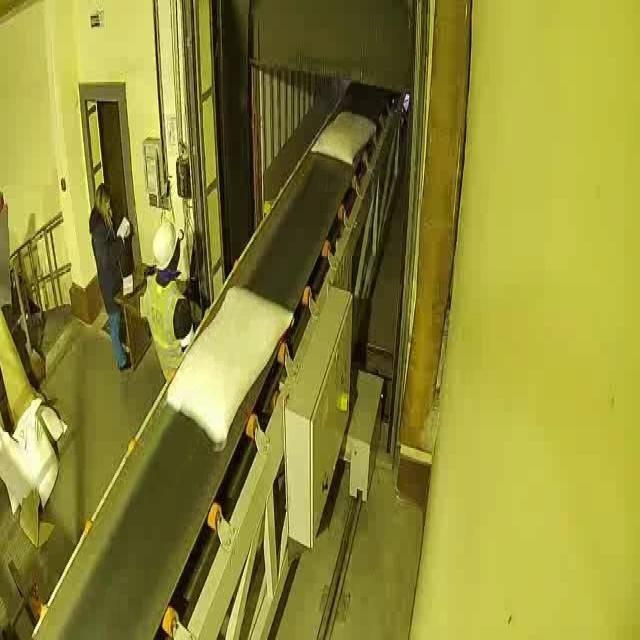bag: (164, 277, 294, 450), (310, 105, 377, 169)
